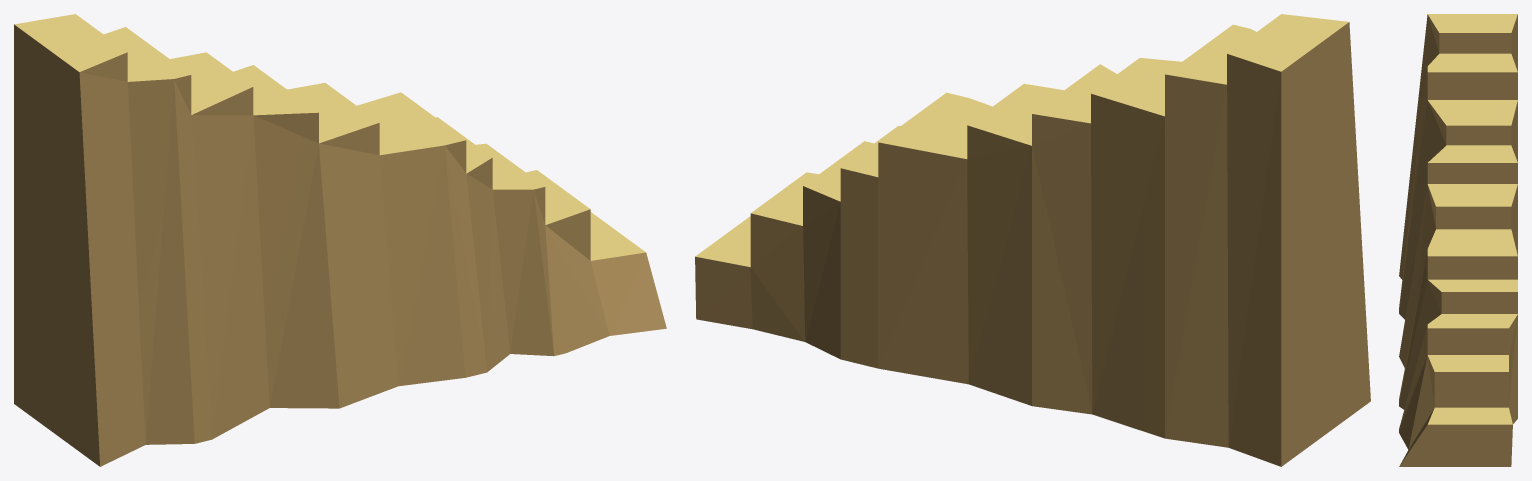
Rendered from Terrain_Modular_Tiles_Sand_Dirt_Stairs_02.fbx.
3 views of the same model, side by side, from view 1: azimuth 30°, elevation 25°; view 2: azimuth 150°, elevation 25°; view 3: azimuth 270°, elevation 25° (orthographic). The views are drawn at different scales.
Parts seen in each view (by area): view 1: Terrain_Modular_Tiles_Sand_Dirt_Stairs_02; view 2: Terrain_Modular_Tiles_Sand_Dirt_Stairs_02; view 3: Terrain_Modular_Tiles_Sand_Dirt_Stairs_02.
Boxes of the visible parts, x1,y1,x2,y2 form: Terrain_Modular_Tiles_Sand_Dirt_Stairs_02: [14, 14, 666, 466]; Terrain_Modular_Tiles_Sand_Dirt_Stairs_02: [695, 14, 1370, 466]; Terrain_Modular_Tiles_Sand_Dirt_Stairs_02: [1399, 14, 1517, 466].
Size of the model in its own units: 148 by 94.49 by 38.85.
